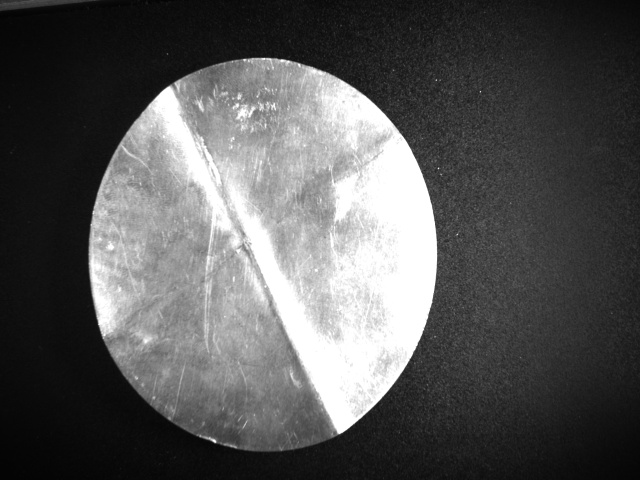zhe_zhou: (135, 118, 390, 390)
